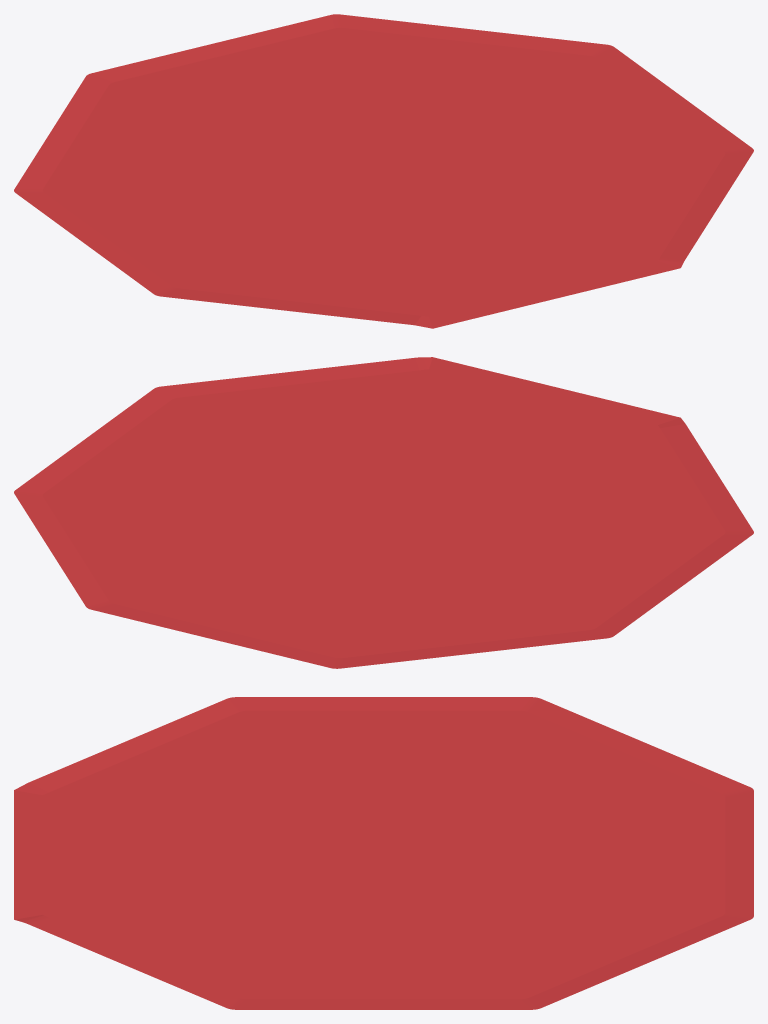
The model's file is Vault_01_Base_Floor.fbx.
3 renders of one model, top to bottom at view 1: azimuth 30°, elevation 25°; view 2: azimuth 150°, elevation 25°; view 3: azimuth 270°, elevation 25°, orthographic. The views are drawn at different scales.
Parts seen in each view (by area): view 1: Floor; view 2: Floor; view 3: Floor.
Boxes of the visible parts, x1,y1,x2,y2 form: Floor: (14, 14, 753, 328); Floor: (14, 357, 753, 668); Floor: (14, 697, 753, 1009).
Size of the model in its own units: 4498 by 10 by 4498.
